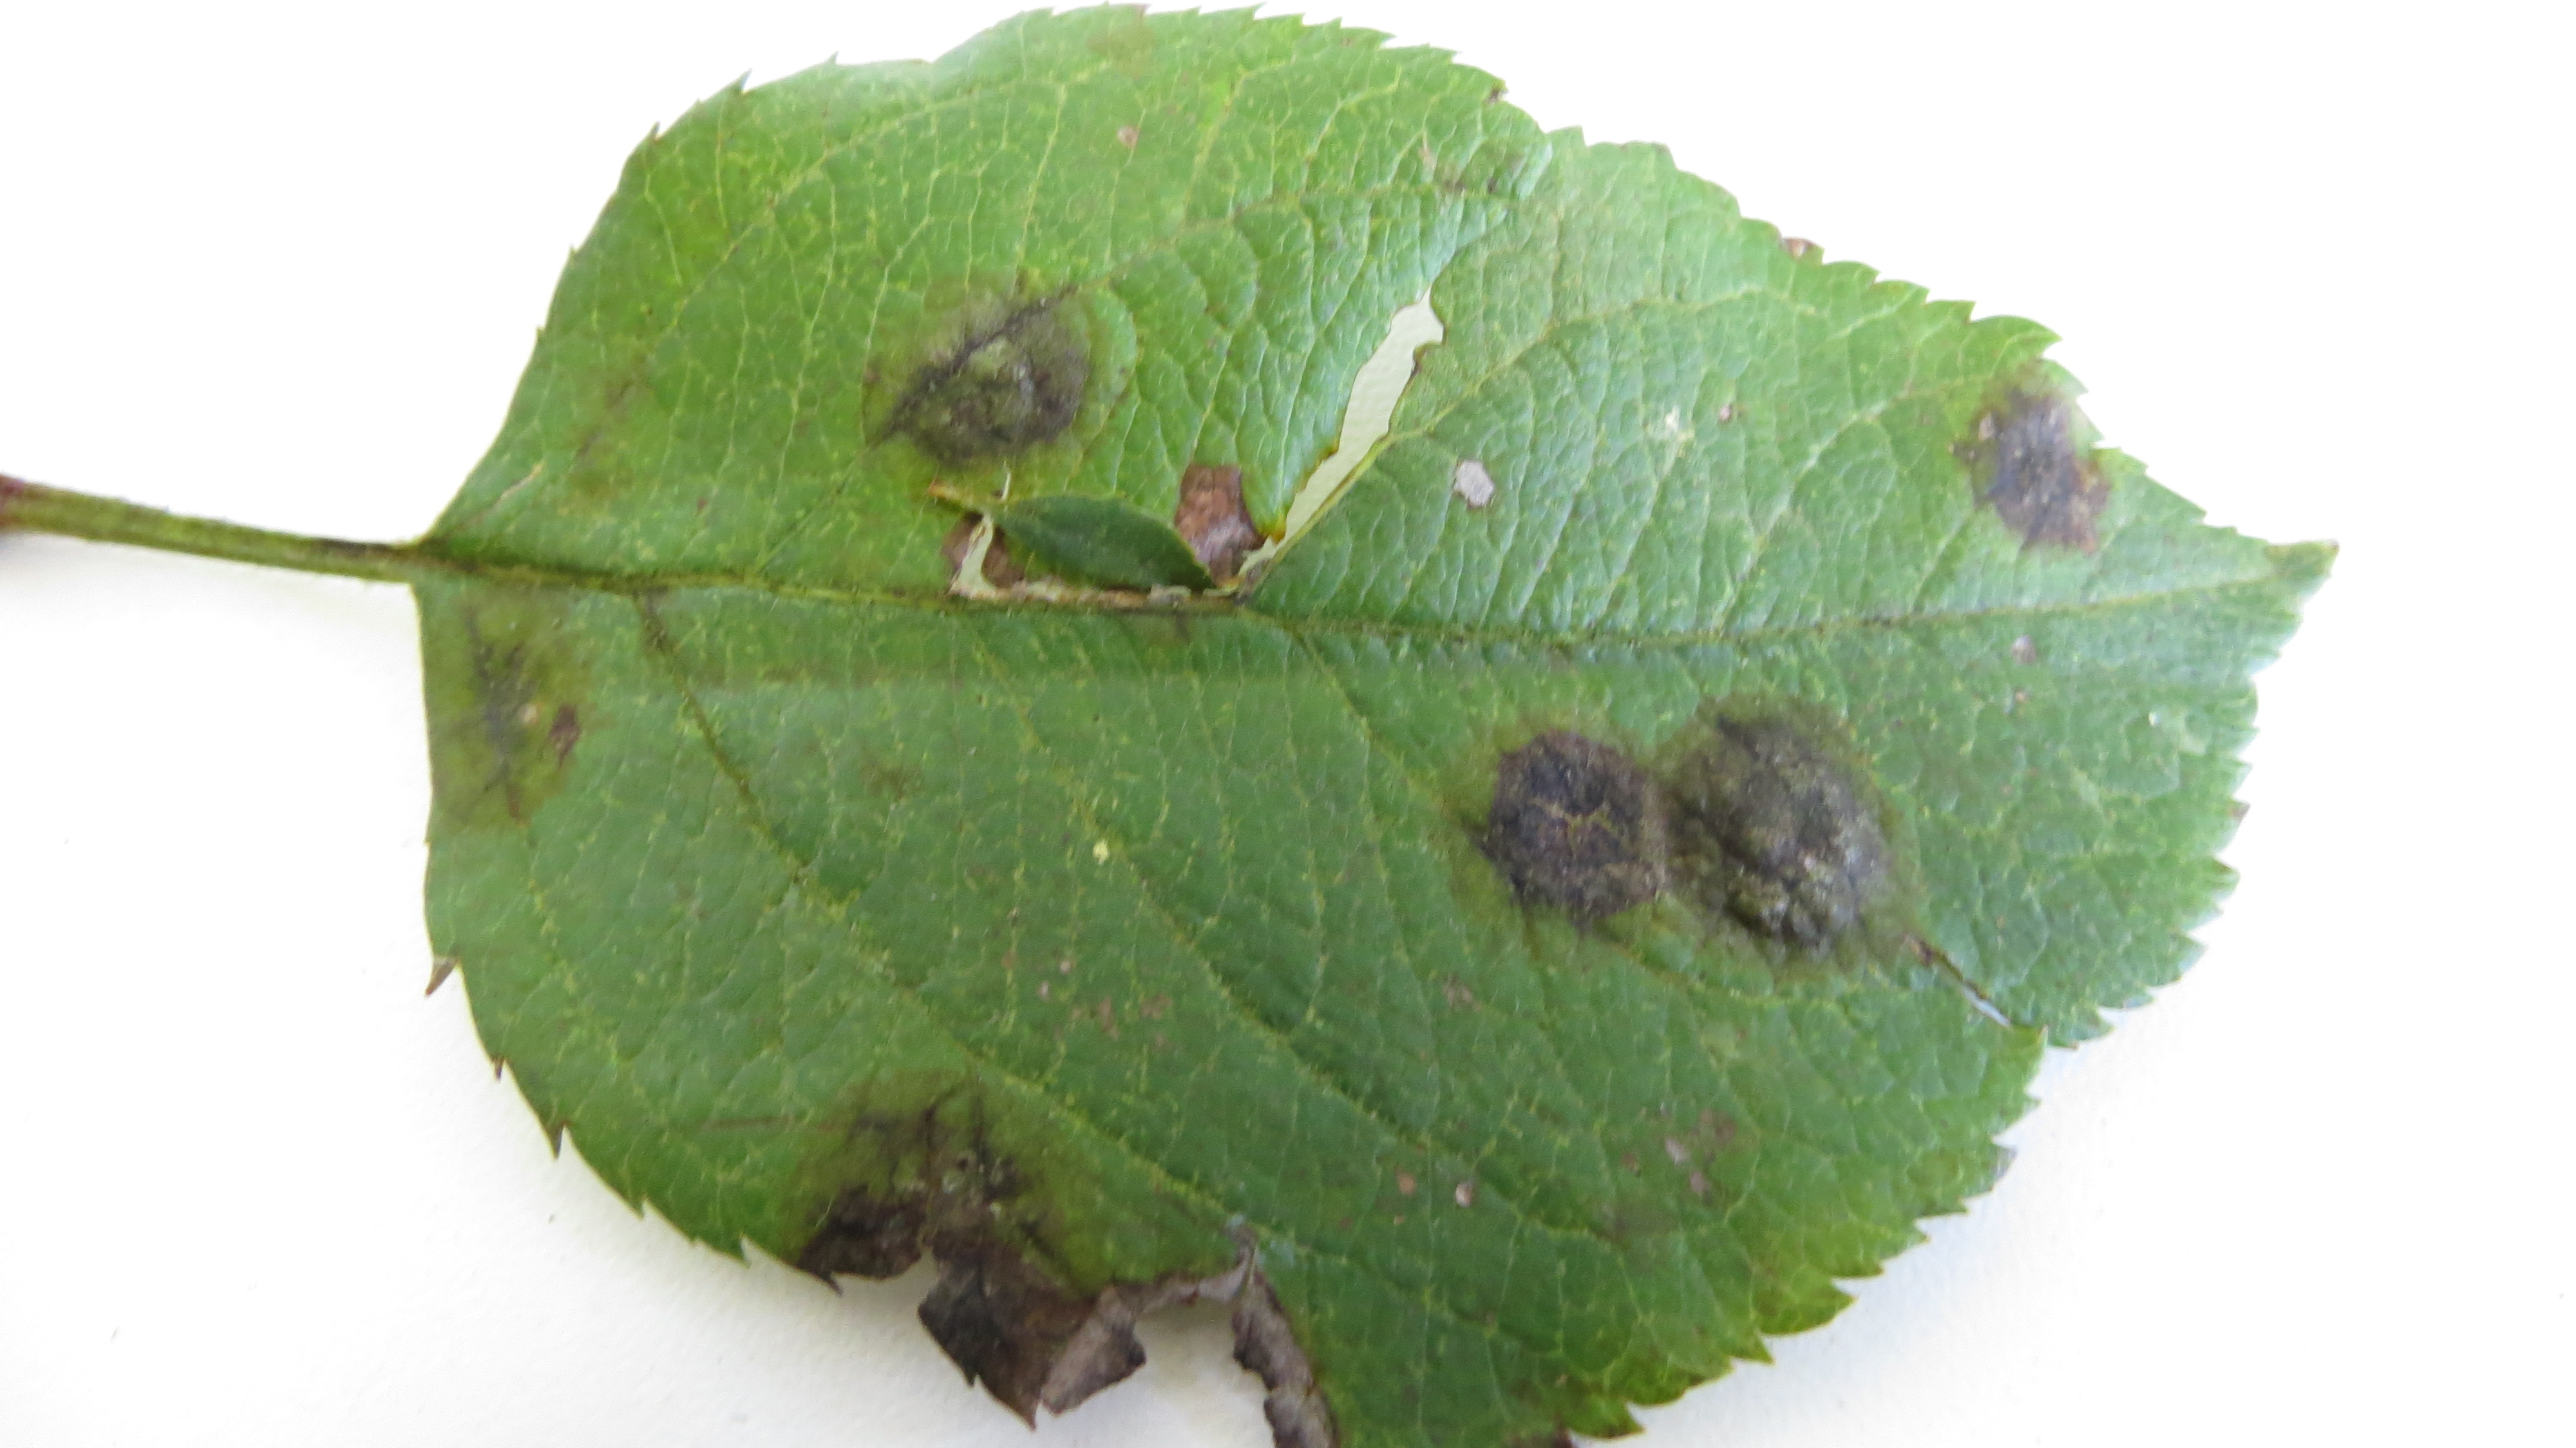sarna: (1661, 669, 1920, 986), (1419, 694, 1663, 958), (786, 1053, 1039, 1275), (860, 269, 1108, 471), (409, 574, 598, 834), (1944, 349, 2127, 579), (918, 1267, 1164, 1398), (913, 478, 1058, 632), (1037, 473, 1162, 625), (1161, 450, 1283, 598), (1244, 1306, 1343, 1439), (621, 575, 722, 705), (541, 412, 648, 533), (1654, 1085, 1752, 1197), (1155, 1221, 1272, 1310), (1442, 131, 1545, 230), (603, 308, 678, 428), (842, 735, 927, 834), (1589, 1174, 1681, 1262), (1361, 1144, 1440, 1221), (1433, 1151, 1504, 1236), (1442, 444, 1507, 522)
